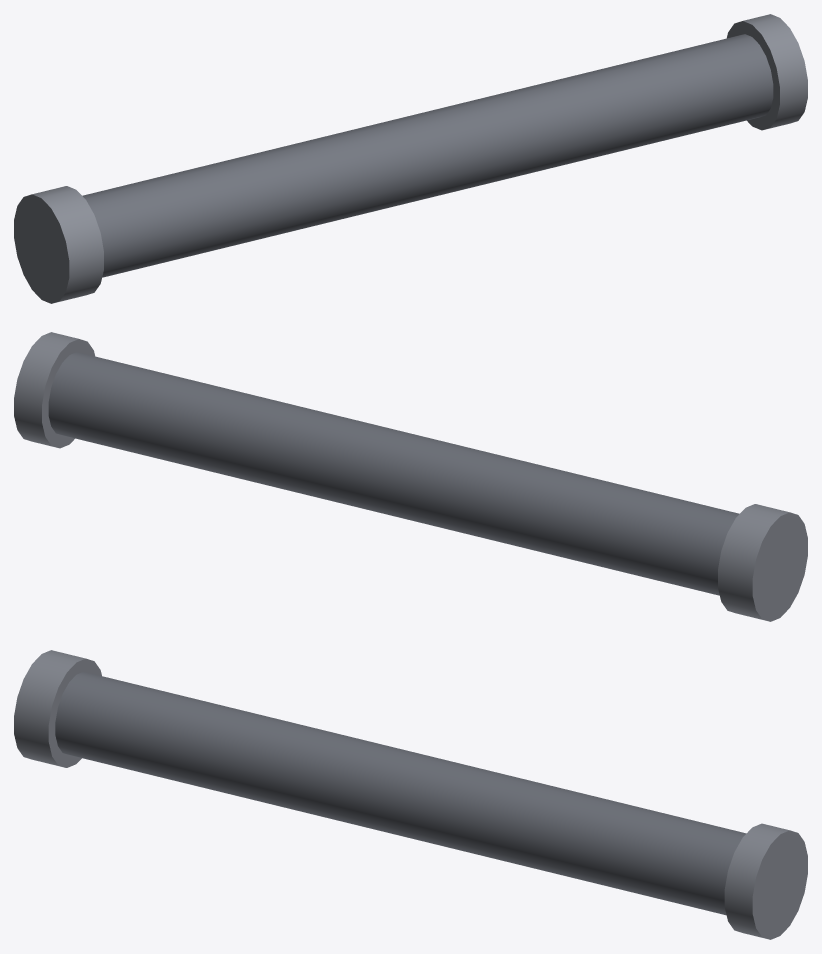
File: m_gutter_little.FBX
3 views of the same model, one above another, from view 1: azimuth 30°, elevation 25°; view 2: azimuth 150°, elevation 25°; view 3: azimuth 330°, elevation 25° (orthographic).
Parts seen in each view (by area): view 1: gutter_straight_little; view 2: gutter_straight_little; view 3: gutter_straight_little.
Boxes of the visible parts, x1,y1,x2,y2 form: gutter_straight_little: (14,14,807,303); gutter_straight_little: (14,332,807,621); gutter_straight_little: (14,650,807,939).
Size of the model in its own units: 49.99 by 6.58 by 6.48.
